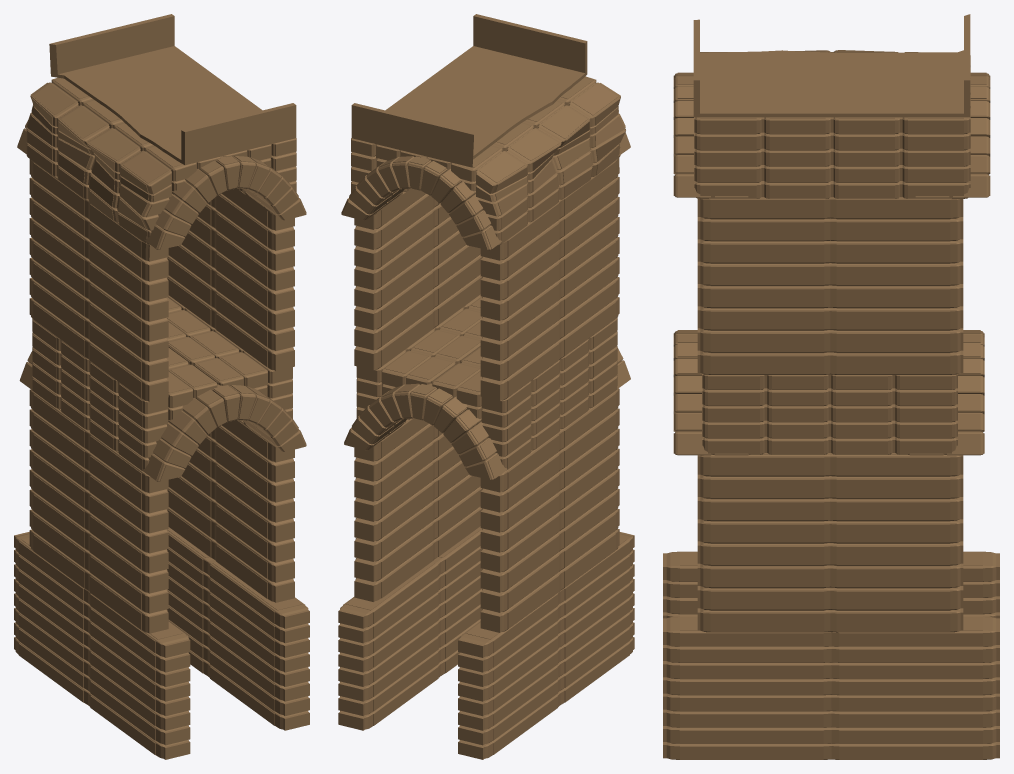
File: Columna 2.fbx
The picture shows the model from 3 angles, left to right: view 1: azimuth 30°, elevation 25°; view 2: azimuth 150°, elevation 25°; view 3: azimuth 270°, elevation 25°; orthographic projection. The views are drawn at different scales.
Parts seen in each view (by area): view 1: ArcoLadrillos.004, Plataforma.002; view 2: ArcoLadrillos.004, Plataforma.002; view 3: ArcoLadrillos.004, Plataforma.002.
Boxes of the visible parts, x1,y1,x2,y2 form: ArcoLadrillos.004: (14,77,309,759); Plataforma.002: (49,14,296,165); ArcoLadrillos.004: (338,76,634,759); Plataforma.002: (351,14,587,167); ArcoLadrillos.004: (663,50,999,759); Plataforma.002: (693,14,970,117).
Bounding box in the file's own units: 2.46 × 9.22 × 4.14.
